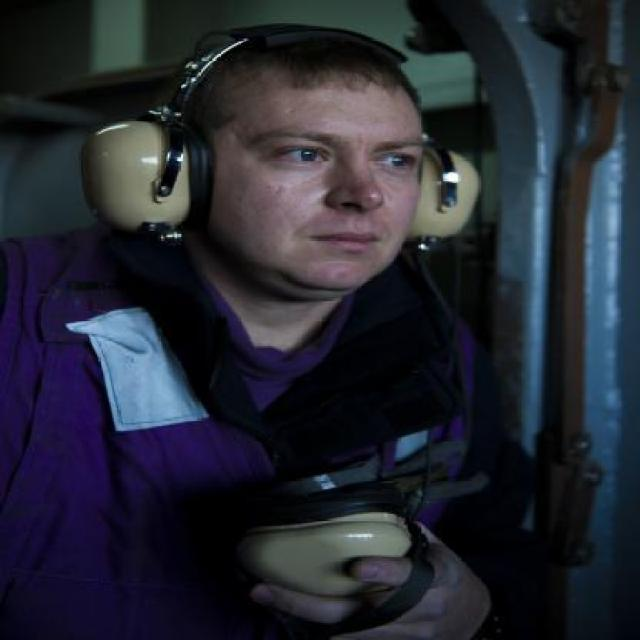earphone: (99, 16, 504, 256)
